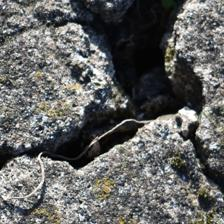Crack: (82, 5, 142, 188)
